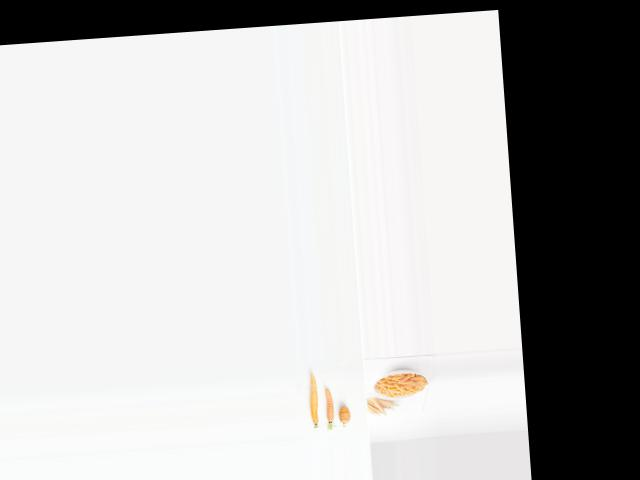carrot: (338, 399, 352, 428)
